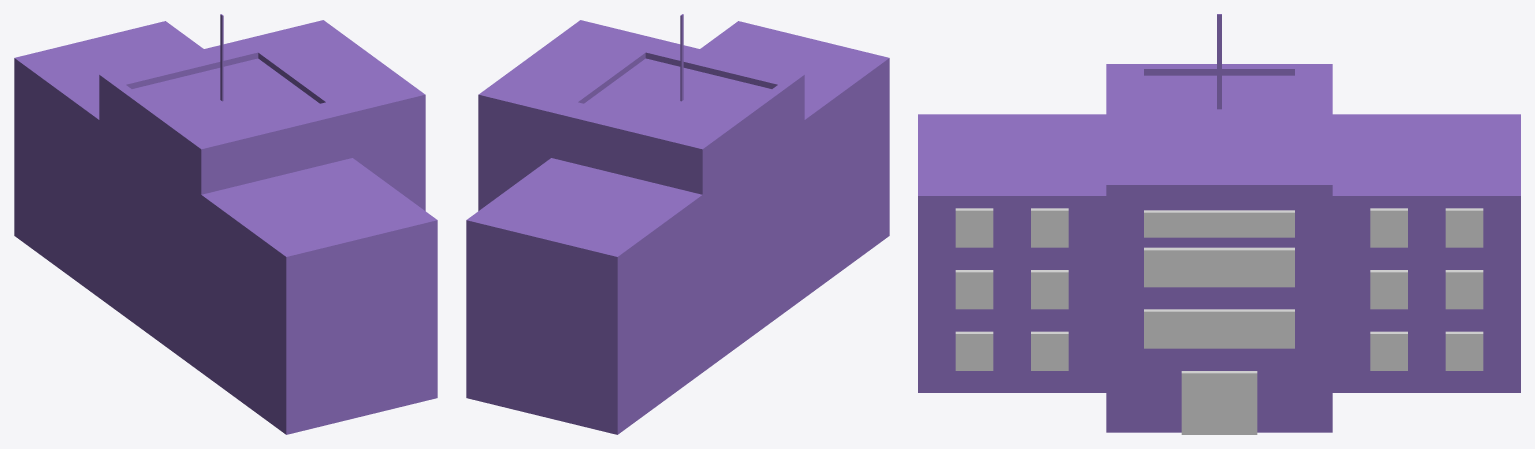
Rendered from escola.fbx.
3 renders of one model, left to right at view 1: azimuth 30°, elevation 25°; view 2: azimuth 150°, elevation 25°; view 3: azimuth 270°, elevation 25°, orthographic. The views are drawn at different scales.
Visible parts, largest first — view 1: Cube; view 2: Cube; view 3: Cube.
Boxes of the visible parts, bbox=[...] form: Cube: bbox=[14, 14, 437, 434]; Cube: bbox=[466, 14, 889, 434]; Cube: bbox=[918, 14, 1520, 434].
Size of the model in its own units: 638 by 808 by 1316.
